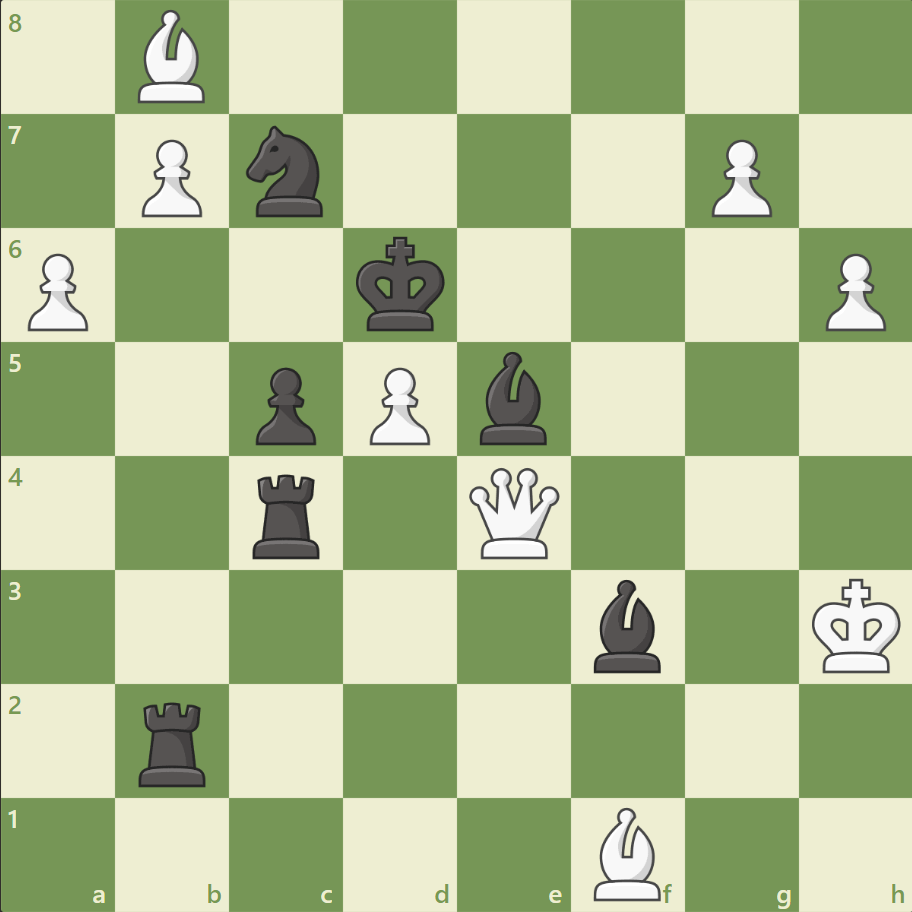B: (131, 6, 215, 109), (585, 801, 669, 904)
K: (806, 571, 906, 679)
P: (133, 132, 208, 223), (701, 132, 776, 223), (20, 246, 95, 337), (815, 246, 889, 337), (361, 359, 435, 450)
Q: (464, 463, 563, 562)
b: (471, 347, 555, 449), (585, 574, 669, 676)
k: (351, 231, 451, 339)
n: (238, 121, 335, 223)
p: (247, 359, 322, 450)
r: (246, 466, 329, 563), (133, 693, 215, 790)
